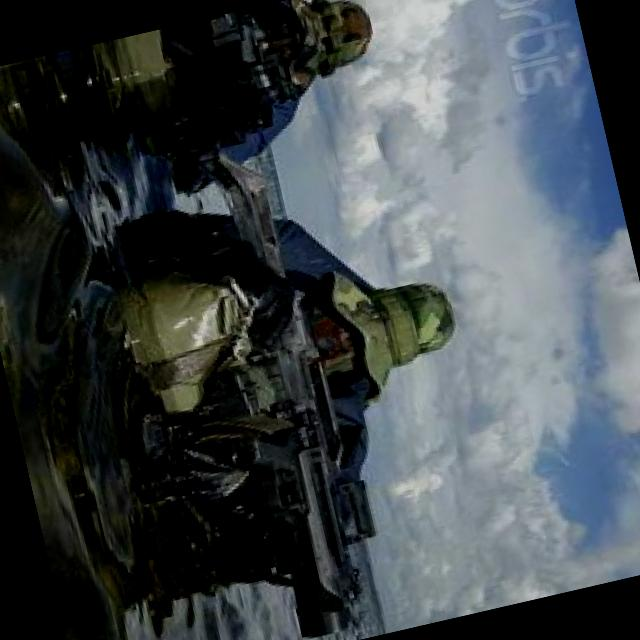long weapon: (156, 180, 397, 639)
